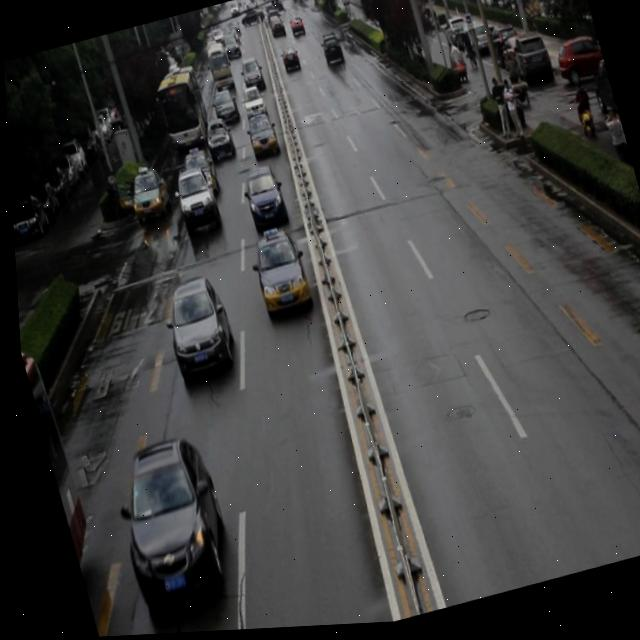car: (97, 431, 231, 615), (153, 276, 237, 382), (243, 229, 310, 319), (167, 165, 219, 236), (236, 165, 288, 231), (122, 162, 172, 225), (238, 111, 279, 164), (179, 147, 217, 203), (198, 116, 234, 165), (207, 87, 238, 128), (236, 87, 266, 124)
van: (16, 345, 110, 640), (149, 62, 210, 153)
